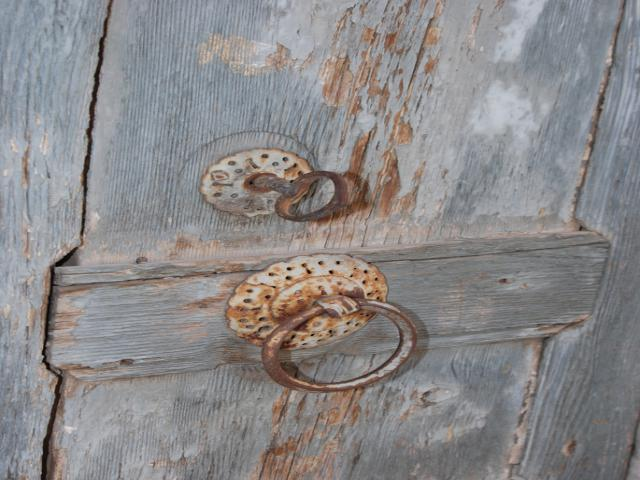Door-handle: (216, 250, 424, 397)
